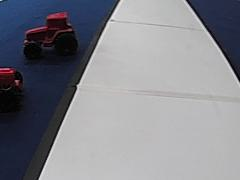Tracktor: (23, 10, 79, 56), (0, 65, 24, 95)
